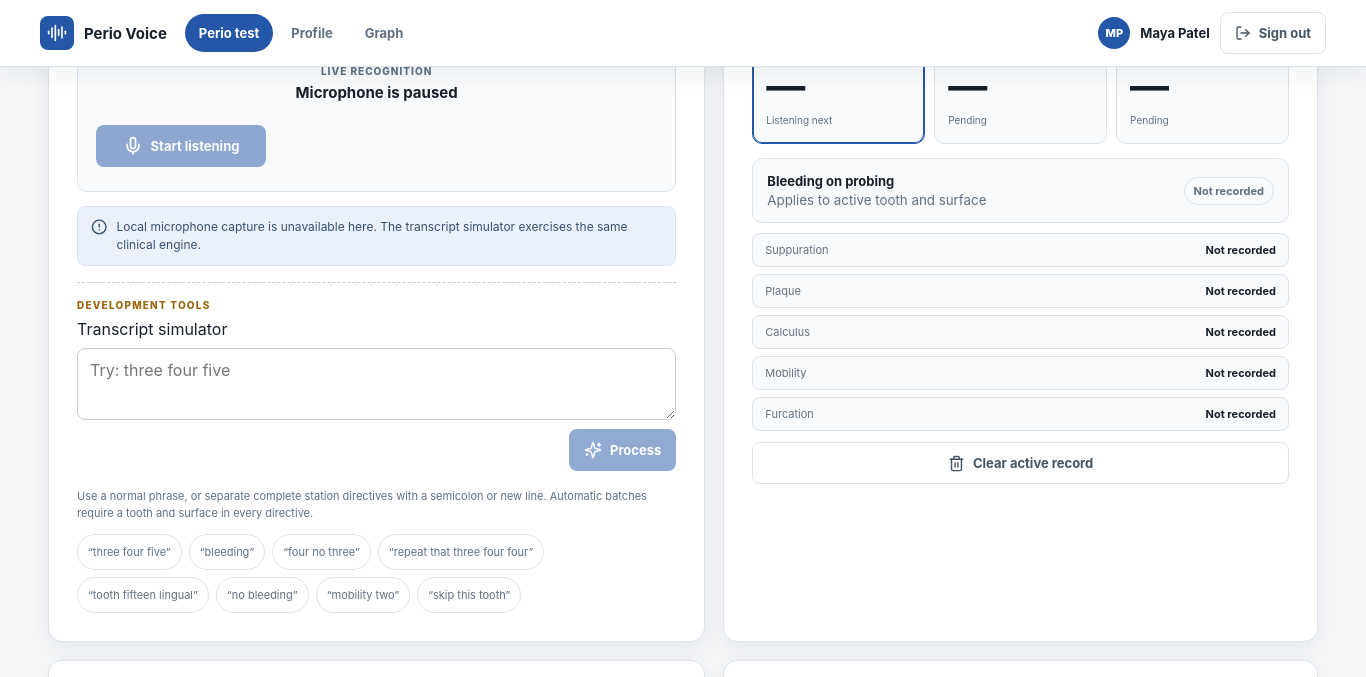
Scenario: held confirmations › holds uncertain speech and charts it only when the clinician approves
The image size is (1366, 677).
(page scrolled)
Step 1. Type "no no bleeding" into the text box labelled "Transcript simulator" → (377, 384), box [77,348,676,420]
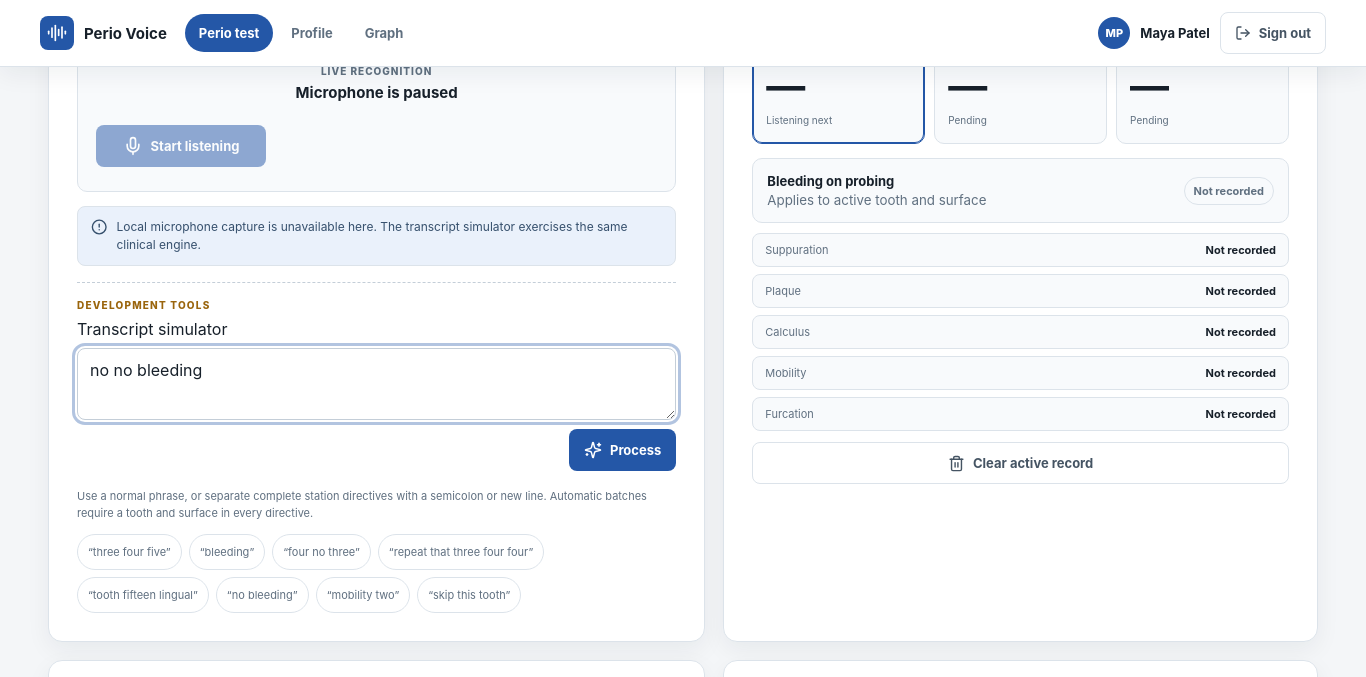
Step 2. Click the button "Process" → (623, 450), box [569,430,676,472]
(page scrolled)
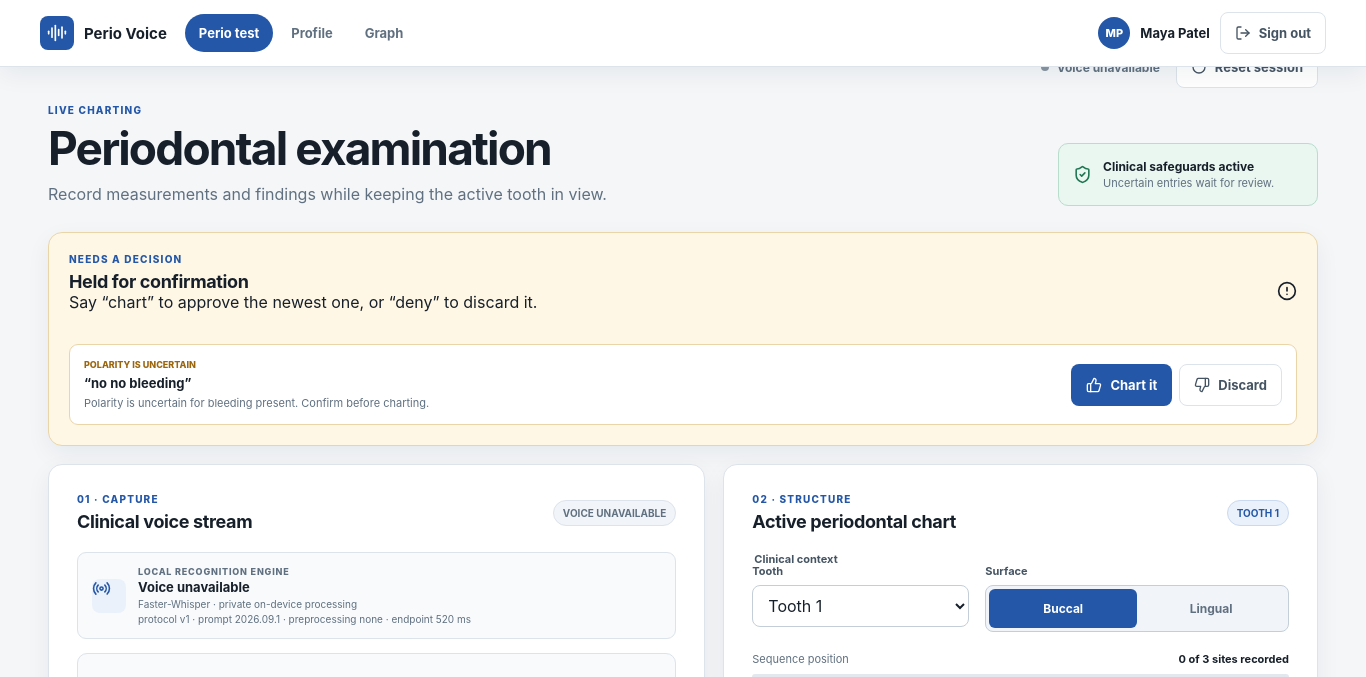
Expected: the text "Polarity is uncertain" is shown, [84,360,196,370]
Step 3. Click the button "Chart it" → (1122, 385), box [1071,364,1172,406]
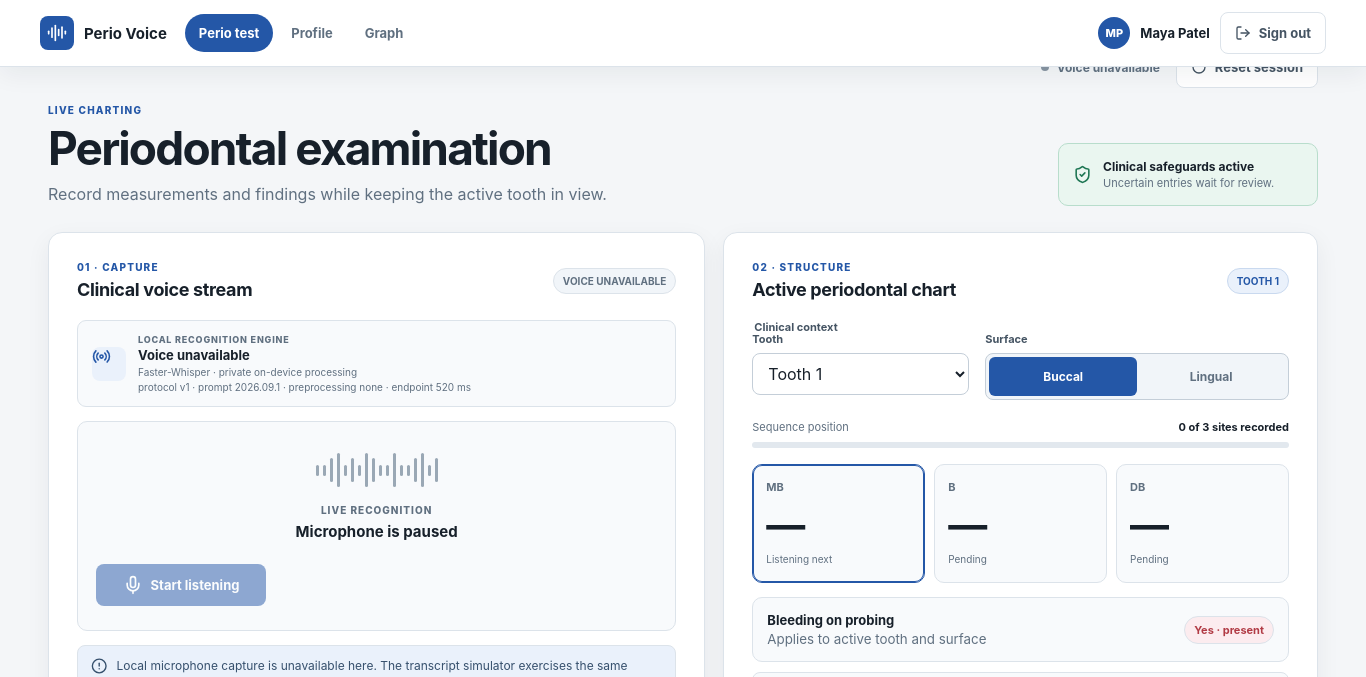
Expected: the element "Held for confirmation" is not shown
Expected: the text "Yes · present" is shown, [1184,616,1274,644]
